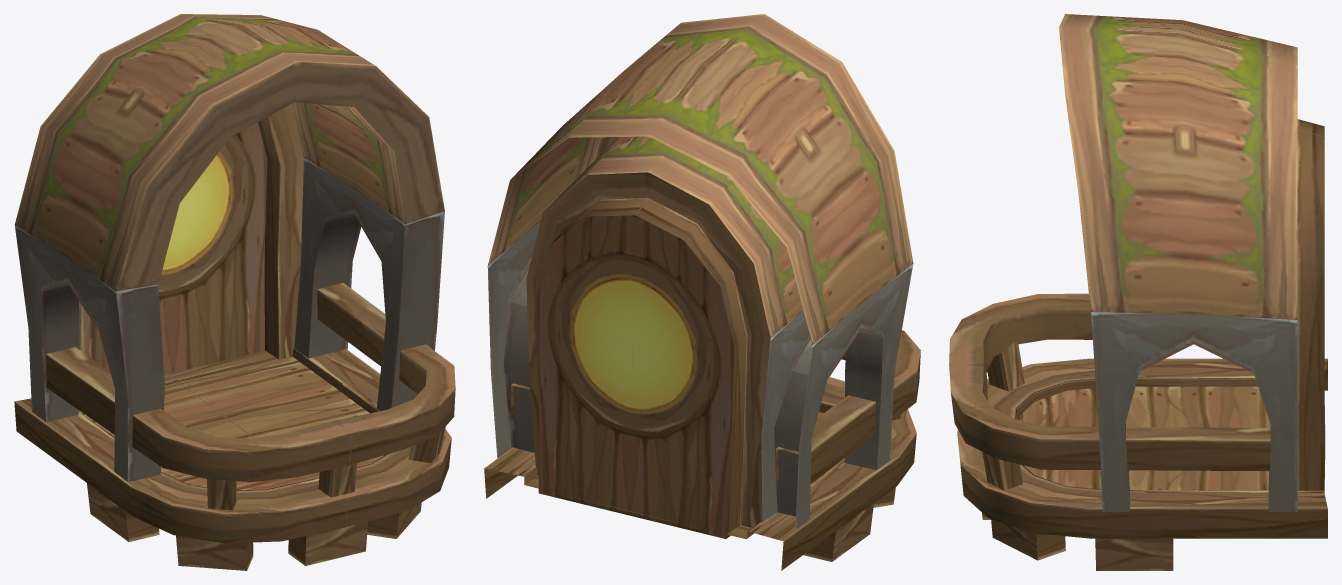
Rendered from Map_08_wooden02.FBX.
The picture shows the model from 3 angles, left to right: view 1: azimuth 30°, elevation 25°; view 2: azimuth 150°, elevation 25°; view 3: azimuth 270°, elevation 25°; orthographic projection. The views are drawn at different scales.
Parts seen in each view (by area): view 1: Map_08_wooden02; view 2: Map_08_wooden02; view 3: Map_08_wooden02.
Boxes of the visible parts, bbox=[...] form: Map_08_wooden02: bbox=[14, 14, 455, 570]; Map_08_wooden02: bbox=[484, 14, 920, 570]; Map_08_wooden02: bbox=[949, 14, 1327, 570].
Size of the model in its own units: 226 by 308 by 221.
Materials: 1 (1 with a texture image).
